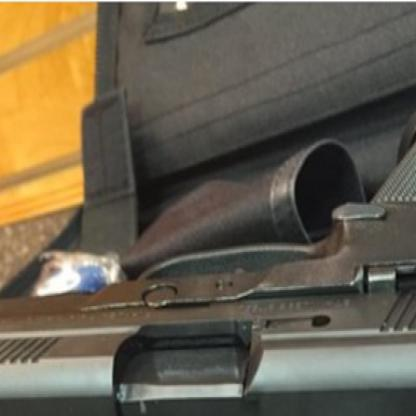gun: (0, 73, 415, 415)
